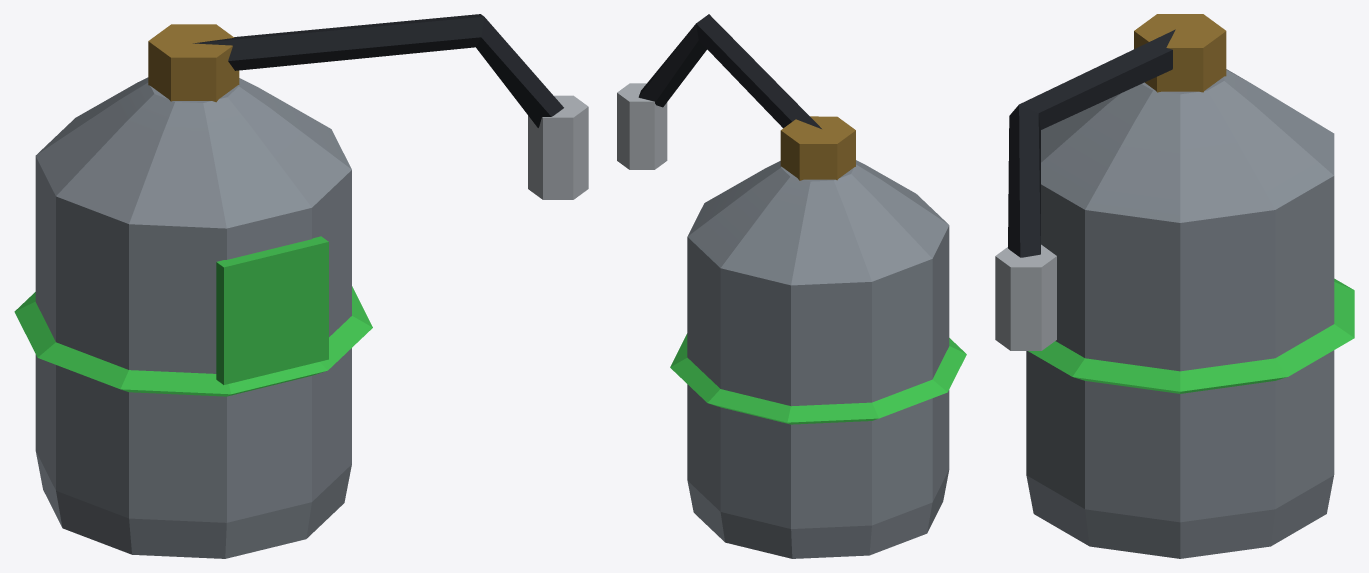
File: projector-tank-corrosive.glb
3 views of the same model, side by side, from view 1: azimuth 30°, elevation 25°; view 2: azimuth 150°, elevation 25°; view 3: azimuth 270°, elevation 25° (orthographic). The views are drawn at different scales.
Parts seen in each view (by area): view 1: m; view 2: m; view 3: m.
Part boxes in pixels (box(x1,y1,x2,y2)): m: box(14, 14, 588, 558); m: box(617, 14, 966, 558); m: box(995, 14, 1354, 558).
Size of the model in its own units: 0.1158 by 0.115 by 0.0758.
